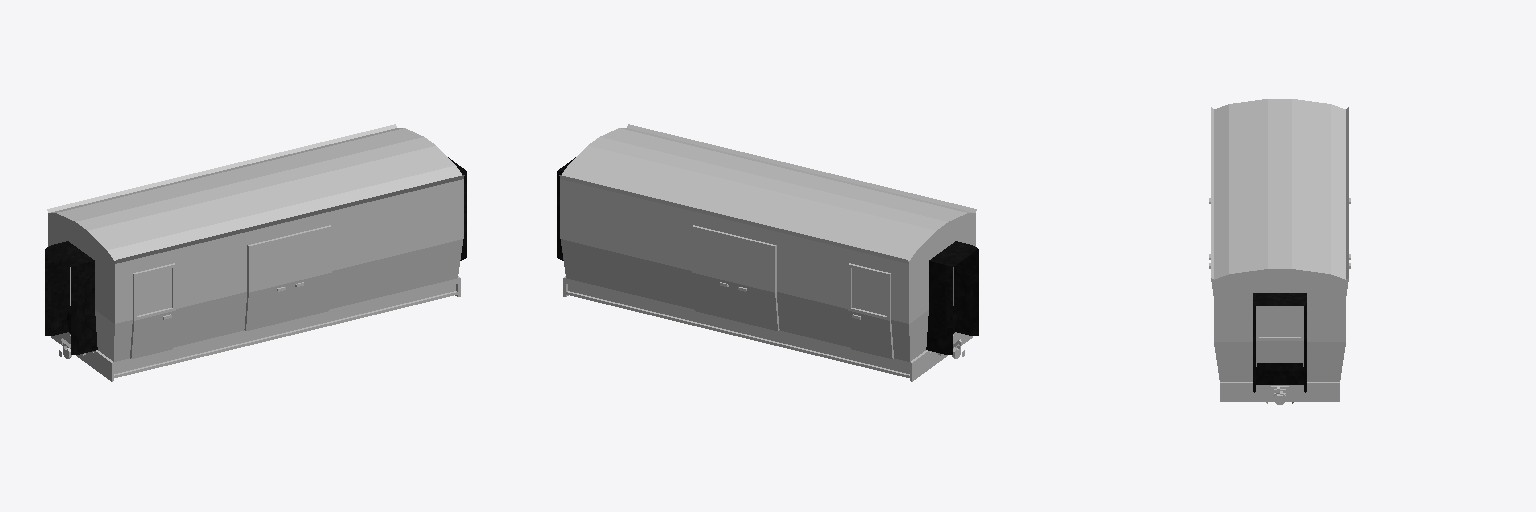
3 renders of one model, left to right at view 1: azimuth 30°, elevation 25°; view 2: azimuth 150°, elevation 25°; view 3: azimuth 270°, elevation 25°, orthographic.
Visible parts, largest first — view 1: FRAME_body, FRAME_body_roof, FRAME_corridor.001, DOOR_6_EXTERNAL_TL_-0.6875_X_CG_cargodoorleft, DOOR_1_EXTERNAL, DOOR_3_EXTERNAL_TL_0.6875_X_CG_cargodoorleft, FRAME_3, FRAME_1, FRAME_2, FRAME_end1; view 2: FRAME_body, FRAME_body_roof, FRAME_corridor.001, DOOR_5_EXTERNAL_TL_-0.6875_X_CG_cargodoorright, DOOR_2_EXTERNAL, DOOR_4_EXTERNAL_TL_0.6875_X_CG_cargodoorright, FRAME_3, FRAME_1, FRAME_2, FRAME_end1; view 3: FRAME_body_roof, FRAME_body, DOOR_8_CONNECTINGTL_-0.6875_Z, FRAME_end2, FRAME_corridor.002, COUPLED_REAR_4.
Part boxes in pixels (x1,y1,x2,y2): FRAME_body: (47,124,464,361); FRAME_body_roof: (51,128,461,260); FRAME_corridor.001: (45,241,97,354); DOOR_6_EXTERNAL_TL_-0.6875_X_CG_cargodoorleft: (244,235,290,330); DOOR_1_EXTERNAL: (130,263,175,358); DOOR_3_EXTERNAL_TL_0.6875_X_CG_cargodoorleft: (288,225,331,320); FRAME_3: (334,284,435,323); FRAME_1: (135,332,236,372); FRAME_2: (235,308,335,347); FRAME_end1: (51,332,135,381); FRAME_body: (559,124,976,361); FRAME_body_roof: (562,128,972,260); FRAME_corridor.001: (926,241,978,354); DOOR_5_EXTERNAL_TL_-0.6875_X_CG_cargodoorright: (733,235,779,330); DOOR_2_EXTERNAL: (848,263,893,358); DOOR_4_EXTERNAL_TL_0.6875_X_CG_cargodoorright: (692,225,735,320); FRAME_3: (588,284,689,323); FRAME_1: (787,332,888,372); FRAME_2: (688,308,788,347); FRAME_end1: (888,332,972,381); FRAME_body_roof: (1214,99,1345,279); FRAME_body: (1211,107,1348,381); DOOR_8_CONNECTINGTL_-0.6875_Z: (1256,306,1303,366); FRAME_end2: (1220,382,1339,401); FRAME_corridor.002: (1253,293,1306,392); COUPLED_REAR_4: (1256,363,1303,384).
Size of the model in its own units: 9.5 by 3.31 by 2.94.
Materials: 6 (1 with a texture image).